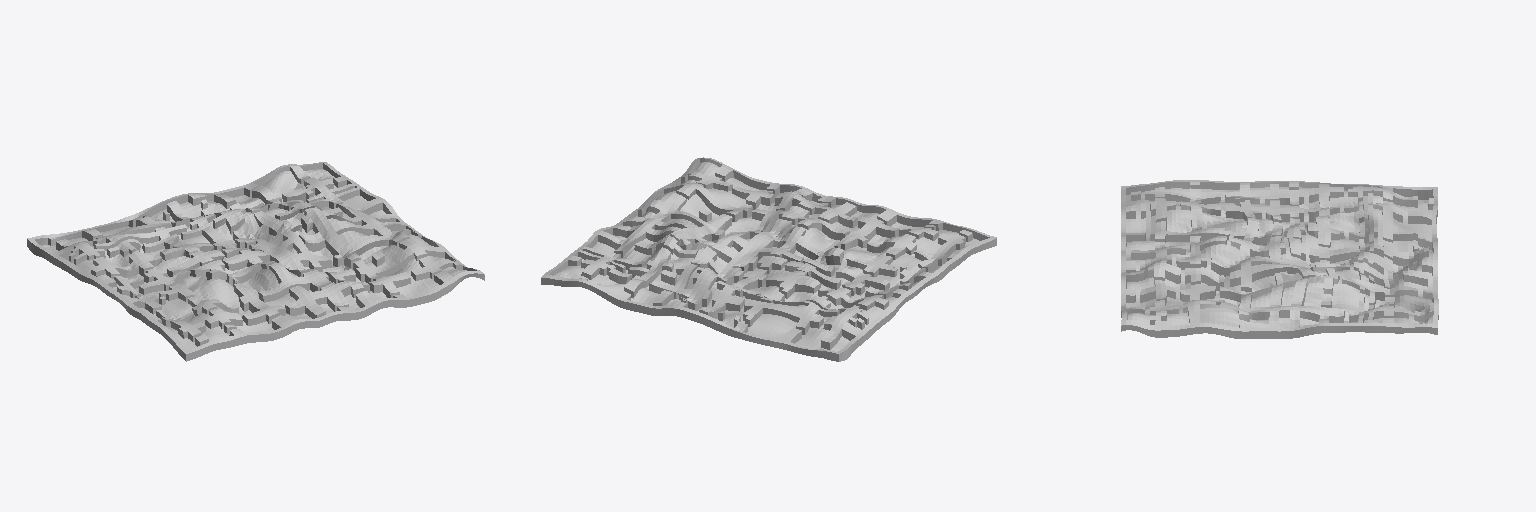
File: def2backrooms.obj
The picture shows the model from 3 angles: view 1: azimuth 30°, elevation 25°; view 2: azimuth 150°, elevation 25°; view 3: azimuth 270°, elevation 25°; orthographic projection.
Parts seen in each view (by area): view 1: Plane; view 2: Plane; view 3: Plane.
Boxes of the visible parts, x1,y1,x2,y2 form: Plane: [27, 162, 484, 361]; Plane: [541, 157, 996, 361]; Plane: [1121, 180, 1438, 338].
Size of the model in its own units: 264 by 26.78 by 242.